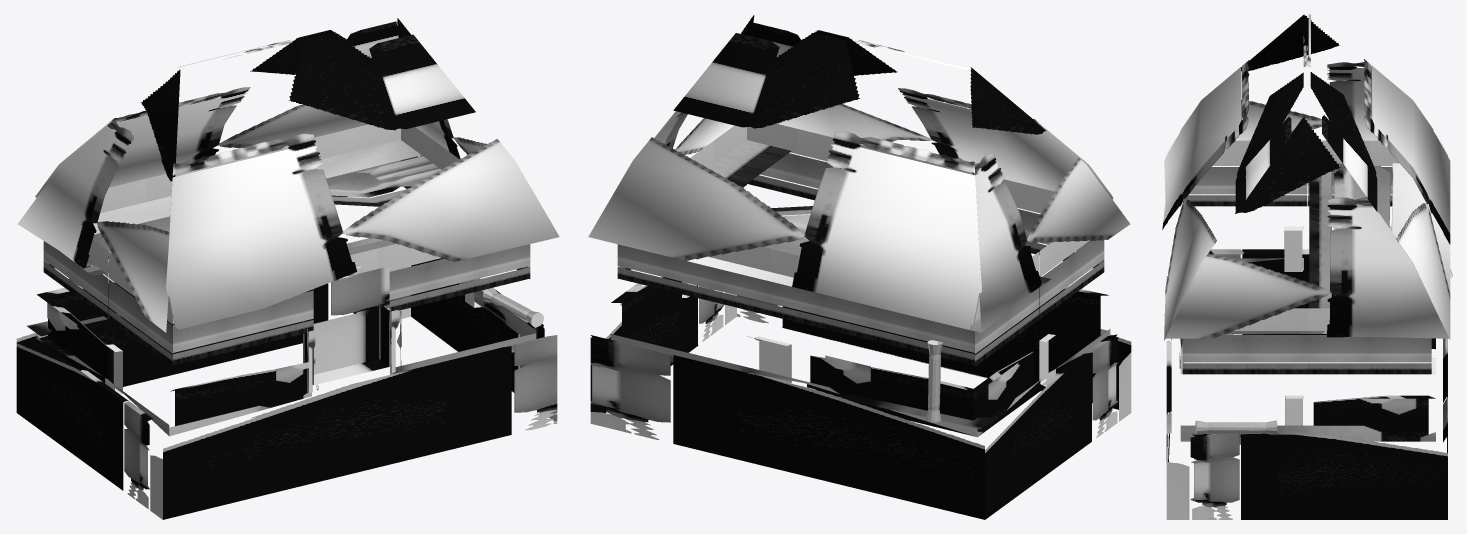
The model's file is maya_house2.dae.
The picture shows the model from 3 angles, left to right: view 1: azimuth 30°, elevation 25°; view 2: azimuth 150°, elevation 25°; view 3: azimuth 270°, elevation 25°; orthographic projection. The views are drawn at different scales.
Visible parts, largest first — view 1: casa_2; view 2: casa_2; view 3: casa_2.
Boxes of the visible parts, x1=… form: casa_2: x1=16, y1=18, x2=559, y2=519; casa_2: x1=588, y1=15, x2=1131, y2=519; casa_2: x1=1162, y1=14, x2=1452, y2=519.
Bounding box in the file's own units: 12.52 × 8.21 × 11.29.
